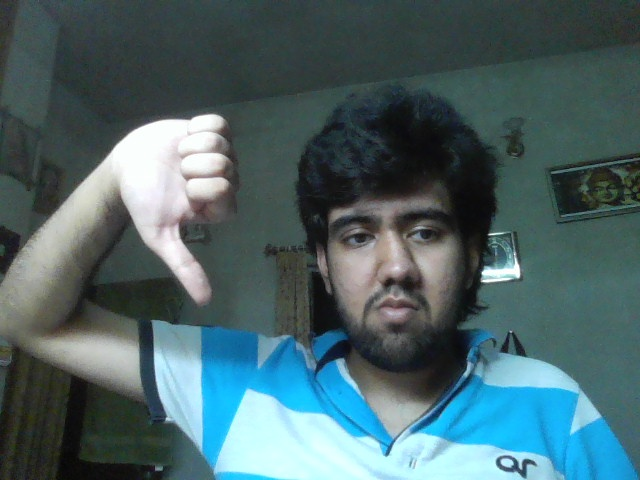NotOk: (122, 114, 239, 305)
